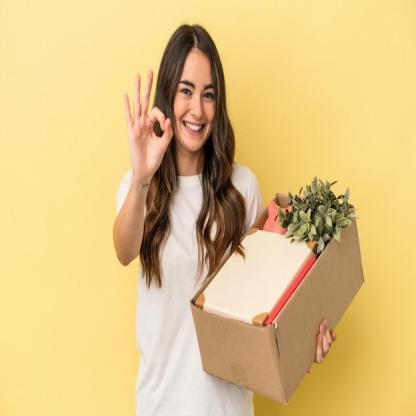ok: (122, 66, 175, 184)
